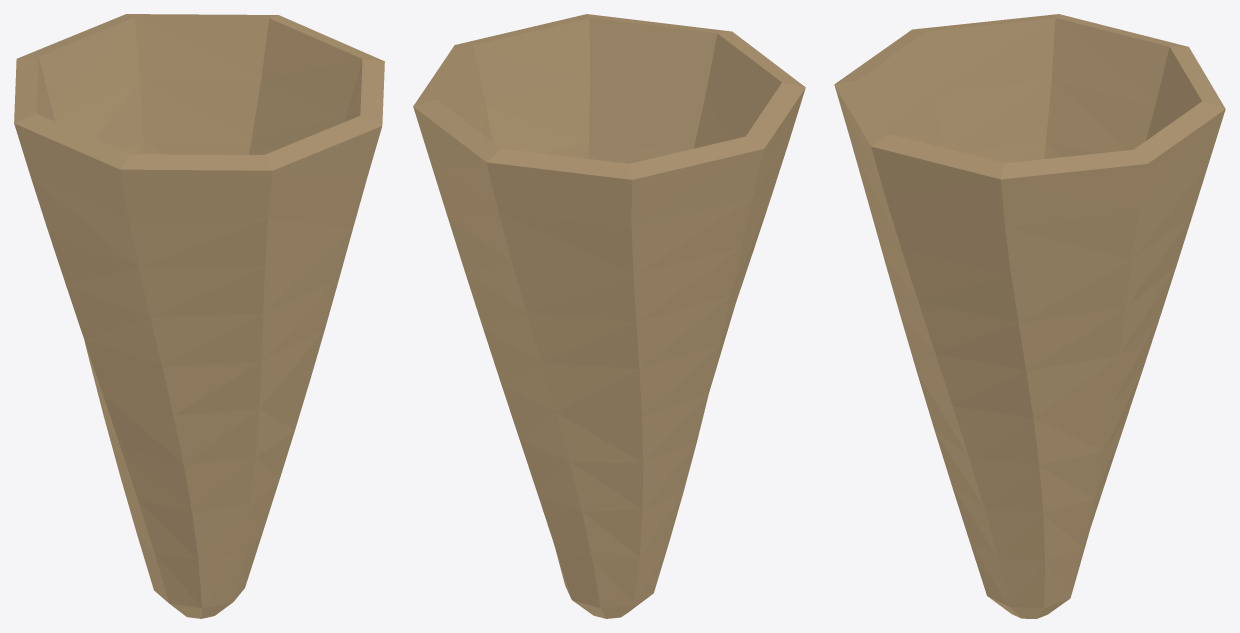
Rendered from IceCream_Cone.glb.
The picture shows the model from 3 angles, left to right: view 1: azimuth 30°, elevation 25°; view 2: azimuth 150°, elevation 25°; view 3: azimuth 270°, elevation 25°; orthographic projection.
Parts seen in each view (by area): view 1: IceCream_Cone; view 2: IceCream_Cone; view 3: IceCream_Cone.
Boxes of the visible parts, x1,y1,x2,y2 form: IceCream_Cone: (14,14,384,618); IceCream_Cone: (413,14,805,618); IceCream_Cone: (834,14,1225,618).
Bounding box in the file's own units: 0.5524 × 0.8104 × 0.5524.
